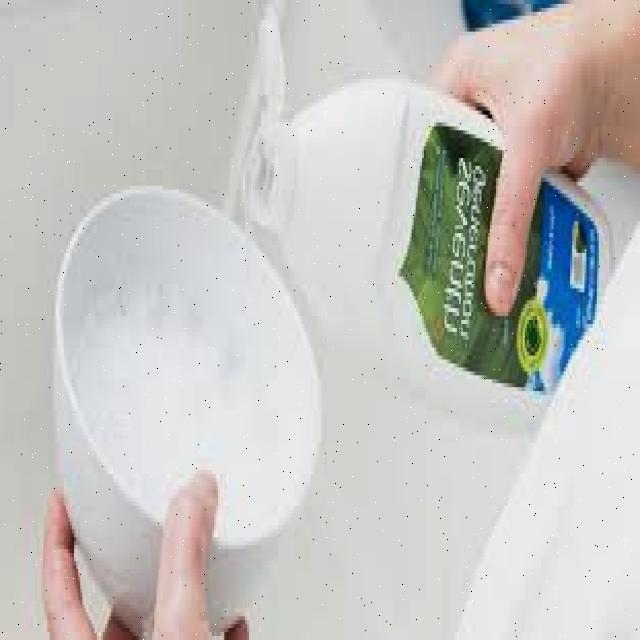liquid soap: (226, 11, 614, 449)
